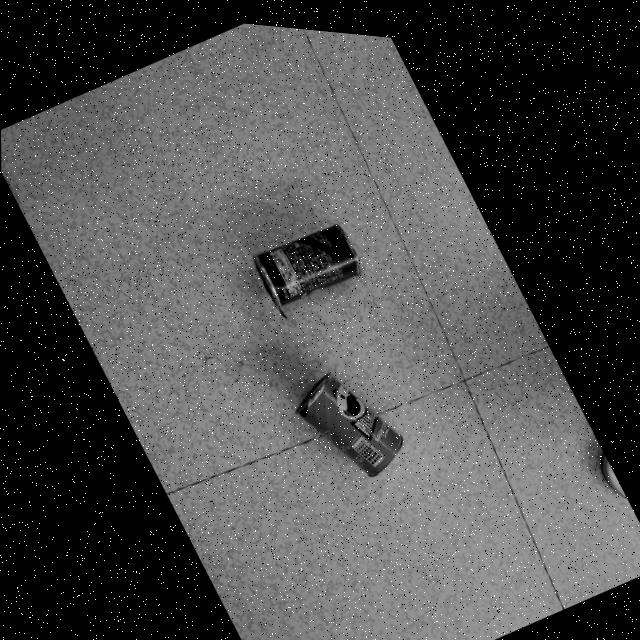canSnack: (295, 365, 402, 468), (252, 216, 360, 310)
